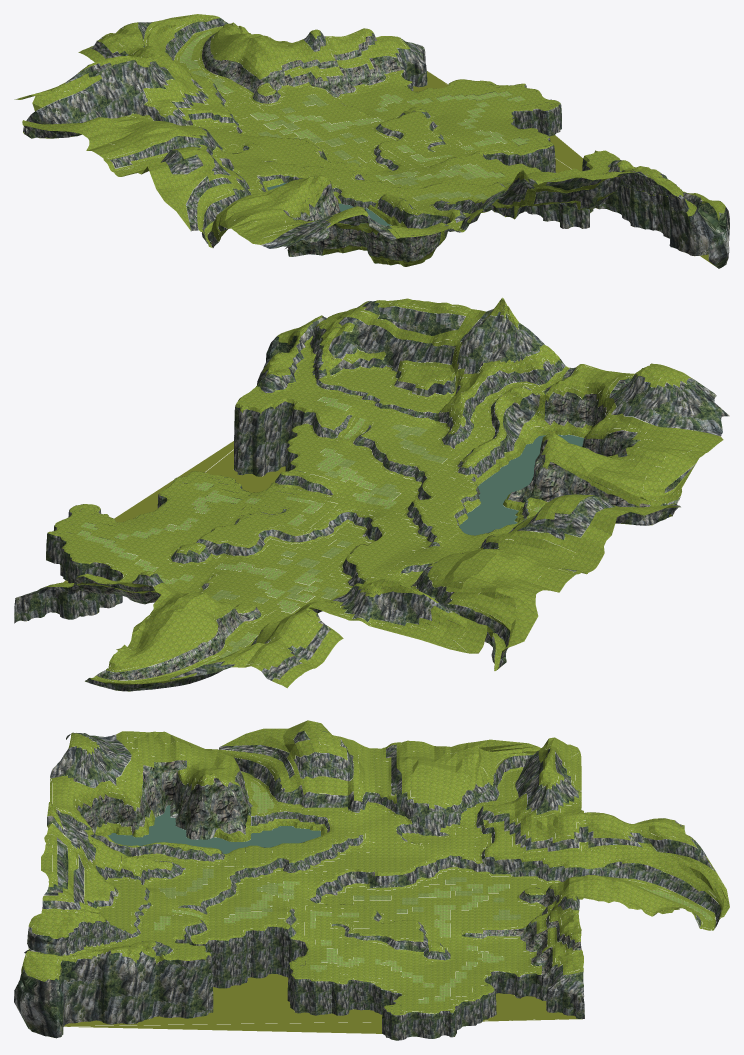
Rendered from NordNorth.glb.
3 views of the same model, one above another, from view 1: azimuth 30°, elevation 25°; view 2: azimuth 150°, elevation 25°; view 3: azimuth 270°, elevation 25° (orthographic). The views are drawn at different scales.
Visible parts, largest first — view 1: Object.052, Object.050, Object.048, Object.053, Object.049, Object.047, Object.051; view 2: Object.052, Object.050, Object.048, Object.053, Object.049, Object.047, Object.055, Object.051; view 3: Object.050, Object.052, Object.048, Object.053, Object.049, Object.047, Object.055, Object.051.
Boxes of the visible parts, x1,y1,x2,y2 form: Object.052: (25, 14, 723, 264); Object.050: (23, 18, 729, 268); Object.048: (14, 14, 725, 266); Object.053: (202, 32, 440, 262); Object.049: (127, 79, 551, 206); Object.047: (179, 31, 561, 184); Object.051: (191, 70, 491, 200); Object.052: (45, 298, 705, 683); Object.050: (14, 300, 729, 691); Object.048: (41, 297, 723, 691); Object.053: (73, 392, 680, 680); Object.049: (57, 393, 492, 635); Object.047: (77, 396, 541, 669); Object.055: (459, 434, 583, 535); Object.051: (211, 424, 447, 658); Object.050: (14, 730, 720, 1040); Object.052: (23, 733, 728, 1013); Object.048: (21, 720, 729, 1015); Object.053: (77, 760, 701, 974); Object.049: (122, 774, 557, 1012); Object.047: (154, 782, 712, 1003); Object.055: (108, 805, 320, 853); Object.051: (159, 868, 520, 920).
Size of the model in its own units: 341 by 93.63 by 449.
8 materials, 8 textured.
